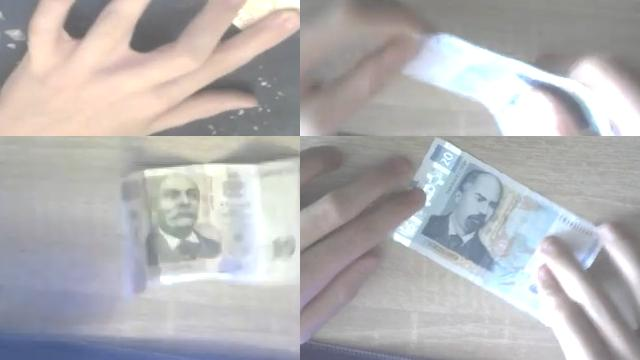10leva: (118, 154, 300, 295)
20leva: (391, 137, 606, 324), (421, 29, 620, 136)
